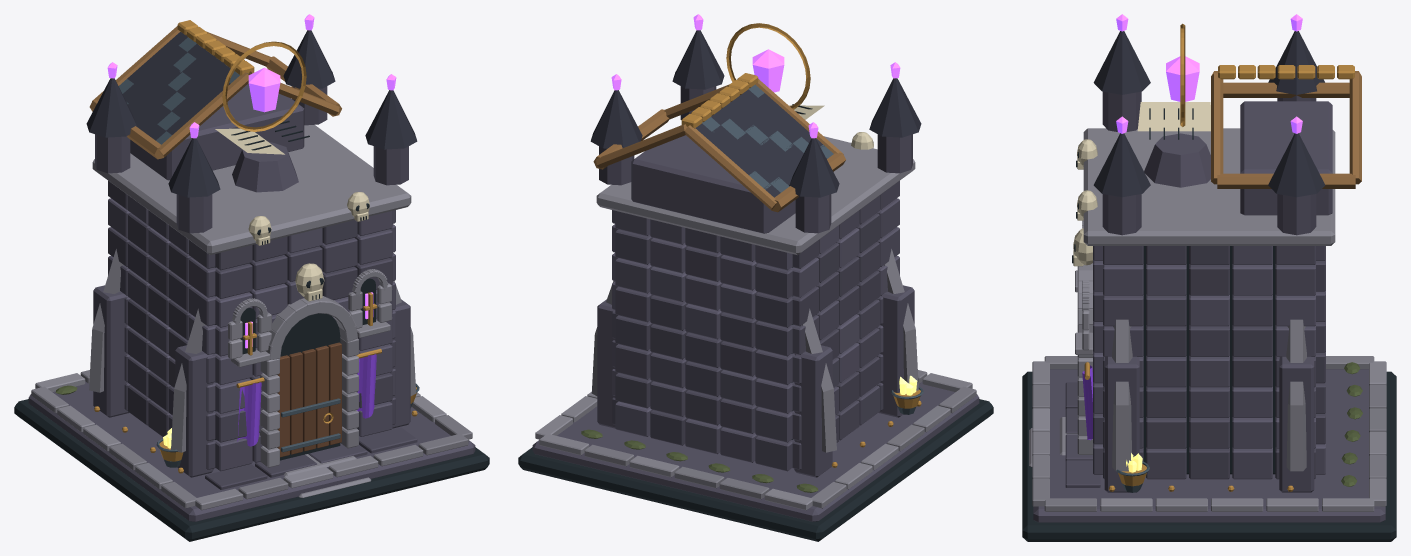
The model's file is necro__lich__L15.glb.
3 renders of one model, left to right at view 1: azimuth 30°, elevation 25°; view 2: azimuth 150°, elevation 25°; view 3: azimuth 270°, elevation 25°, orthographic. The views are drawn at different scales.
Visible parts, largest first — view 1: structure, weapon, banners; view 2: structure, weapon; view 3: structure, weapon, banners.
Part boxes in pixels (x1,y1,x2,y2): structure: (14, 14, 489, 541); weapon: (215, 41, 309, 192); banners: (236, 348, 381, 446); structure: (518, 14, 993, 541); weapon: (726, 23, 824, 119); structure: (1022, 14, 1396, 541); weapon: (1137, 23, 1210, 187); banners: (1082, 362, 1092, 440).
Size of the model in its own units: 0.803 by 1.03 by 0.803.
